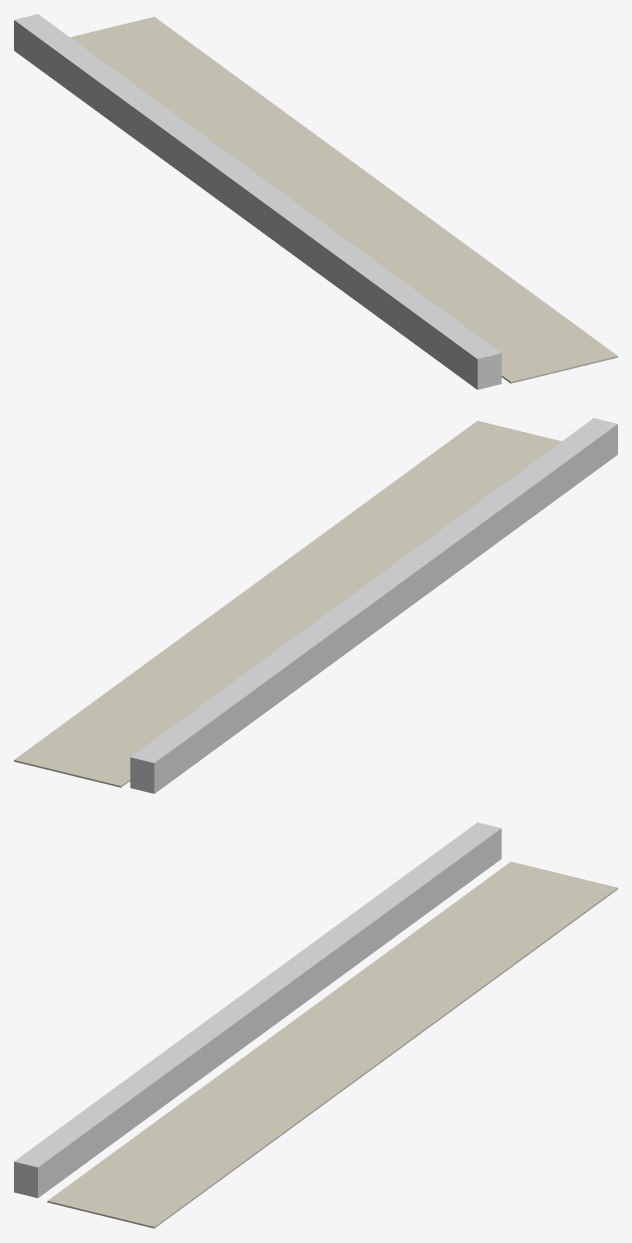
File: Tile_SeaWallR_30m.fbx
3 renders of one model, top to bottom at view 1: azimuth 30°, elevation 25°; view 2: azimuth 150°, elevation 25°; view 3: azimuth 330°, elevation 25°, orthographic.
Parts seen in each view (by area): view 1: Sand, SeaWall; view 2: Sand, SeaWall; view 3: Sand, SeaWall.
Boxes of the visible parts, left/top/right/bottom form: Sand: left=70, top=16, right=617, bottom=383; SeaWall: left=14, top=14, right=501, bottom=389; Sand: left=14, top=420, right=561, bottom=787; SeaWall: left=130, top=418, right=617, bottom=793; Sand: left=47, top=861, right=617, bottom=1228; SeaWall: left=14, top=822, right=501, bottom=1197.
Size of the model in its own units: 5.25 by 1.17 by 30.
